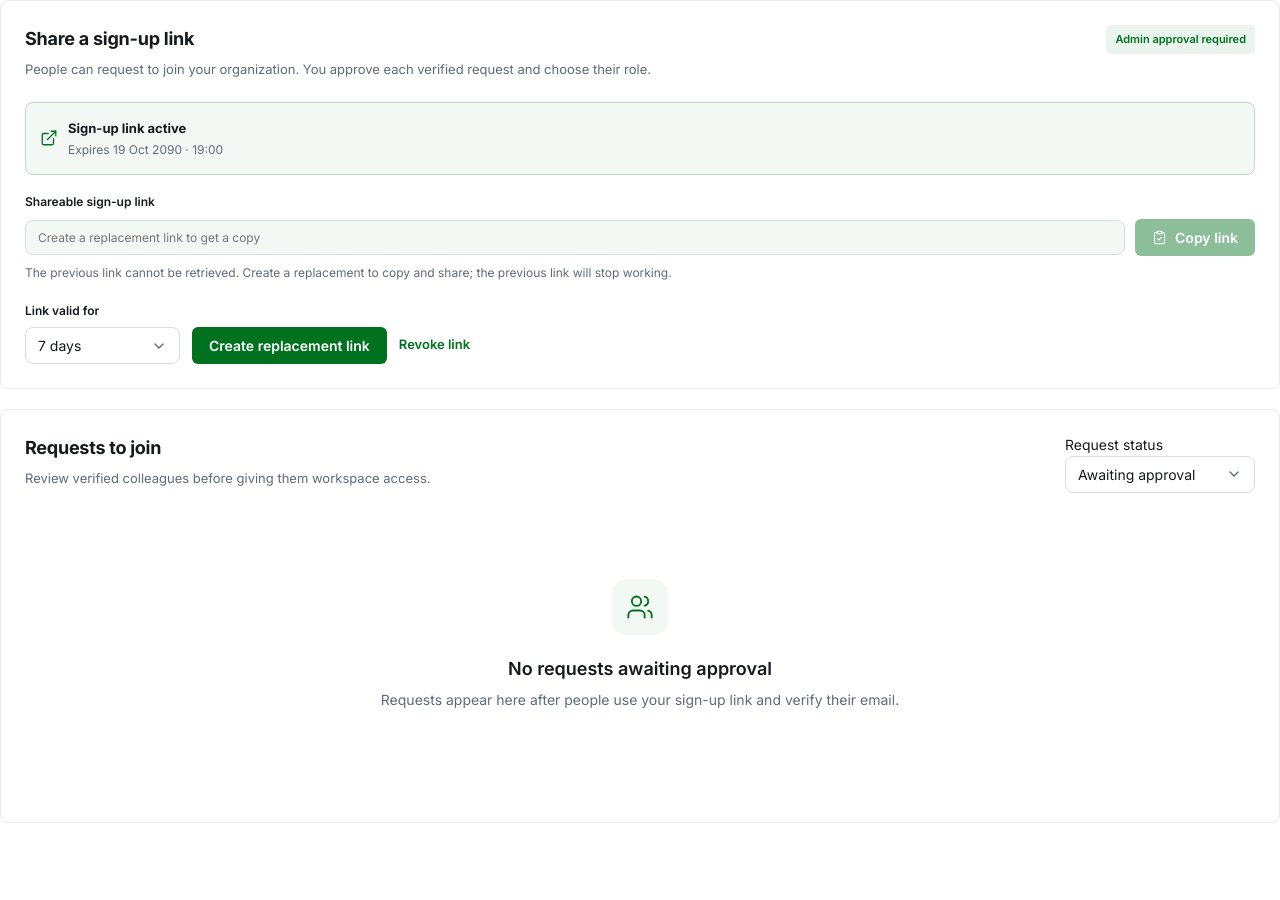
Scenario: organization sign-up link and approval › requires confirmation to revoke and preserves review of submitted requests
Click the button "Revoke link".
click(434, 344)  # box [399,324,470,364]
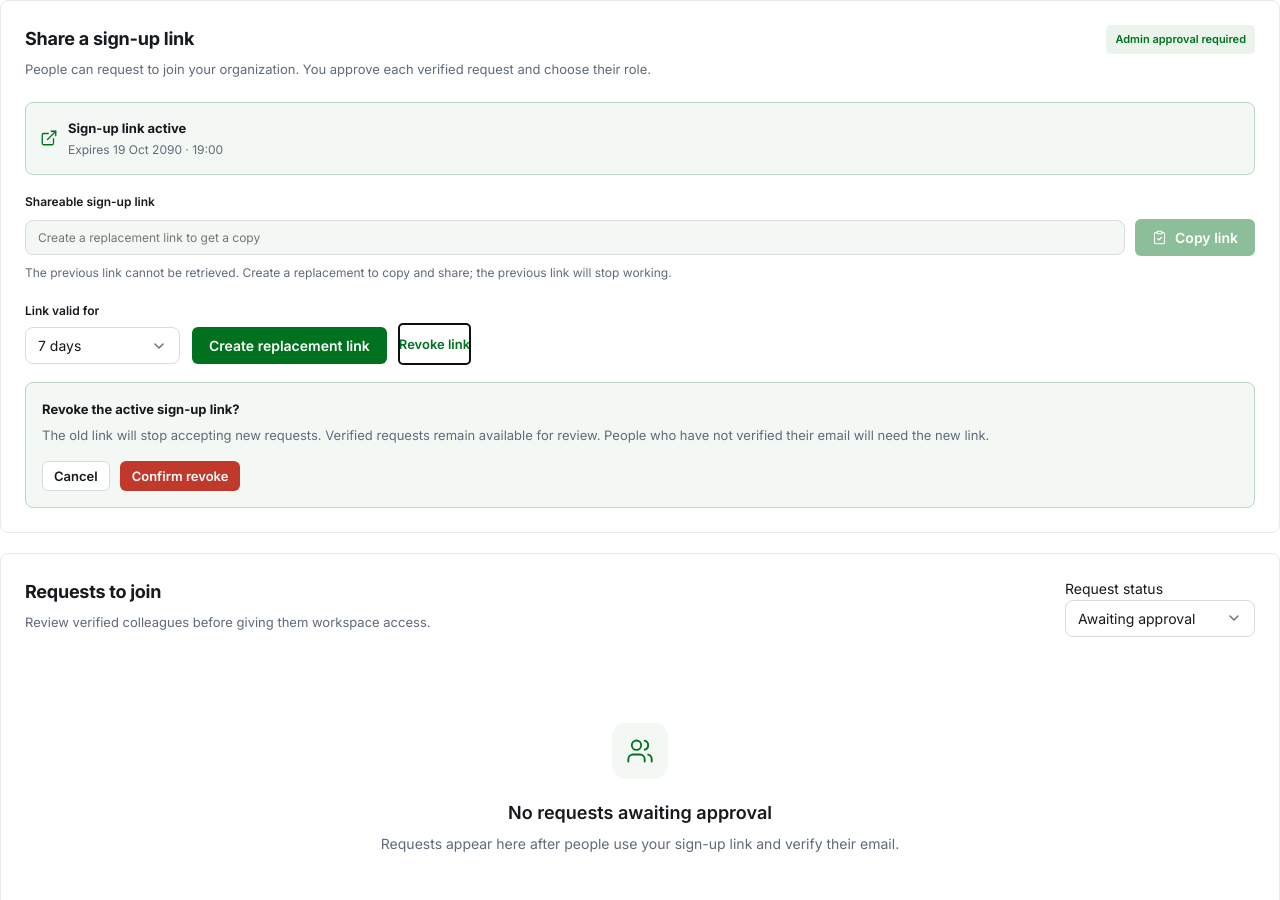
Click the button "Confirm revoke".
click(180, 476)  # box [120,461,240,491]
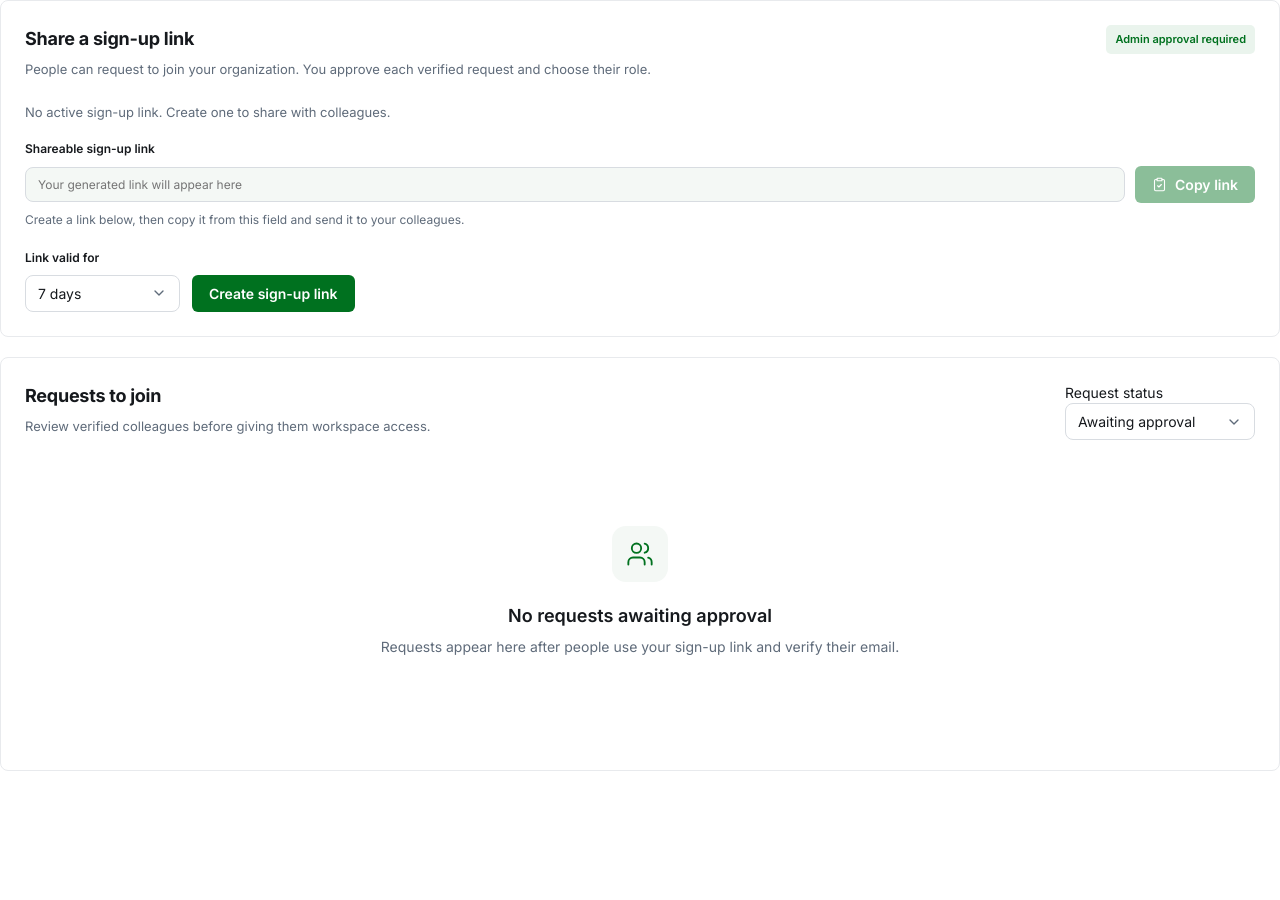
Check: the text "No active sign-up link. Create one to share with colleagues." is shown, box [25,104,390,120]
